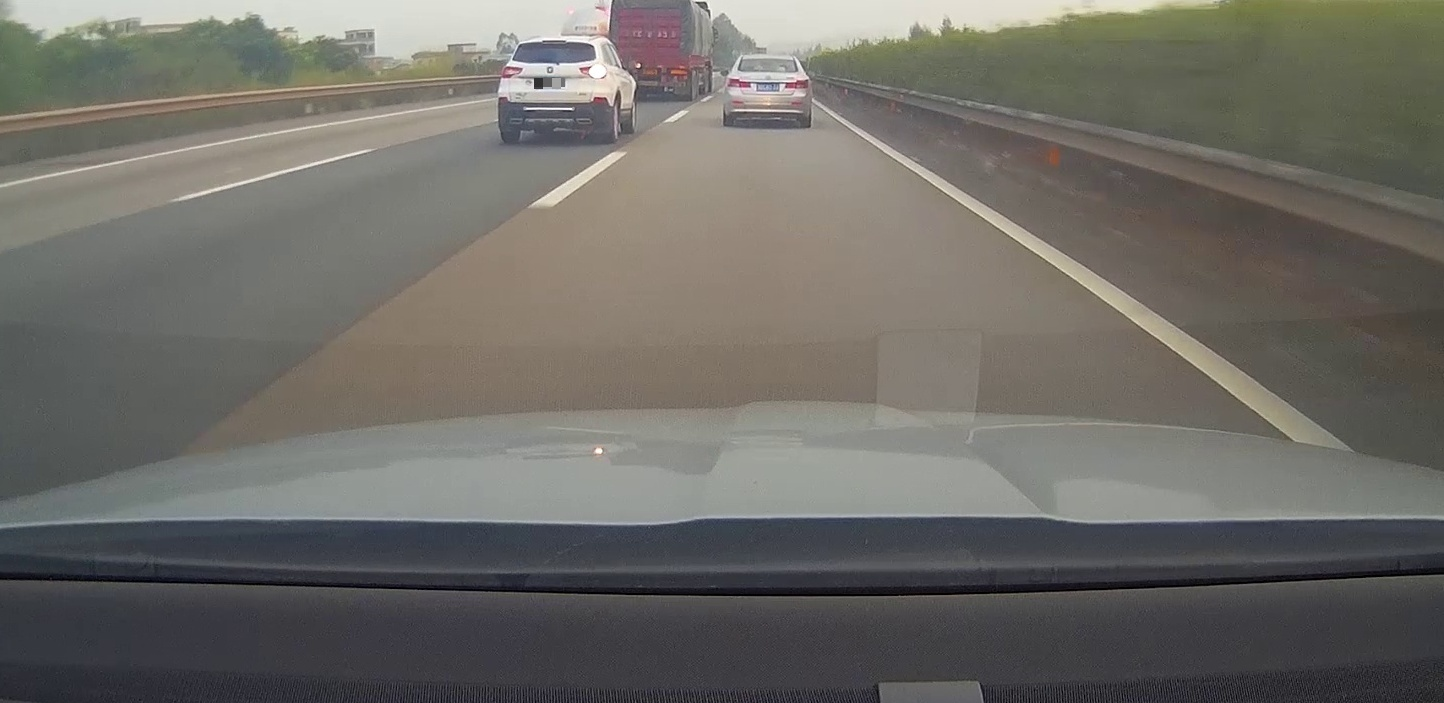L_light: (500, 66, 524, 79), (727, 78, 751, 88)
R_light: (580, 63, 608, 79), (785, 79, 808, 89)
T_light: (543, 40, 566, 44), (762, 57, 774, 60)
day-no: (724, 55, 812, 128)
day-right: (496, 37, 617, 143)
plate_1: (534, 78, 565, 89)
